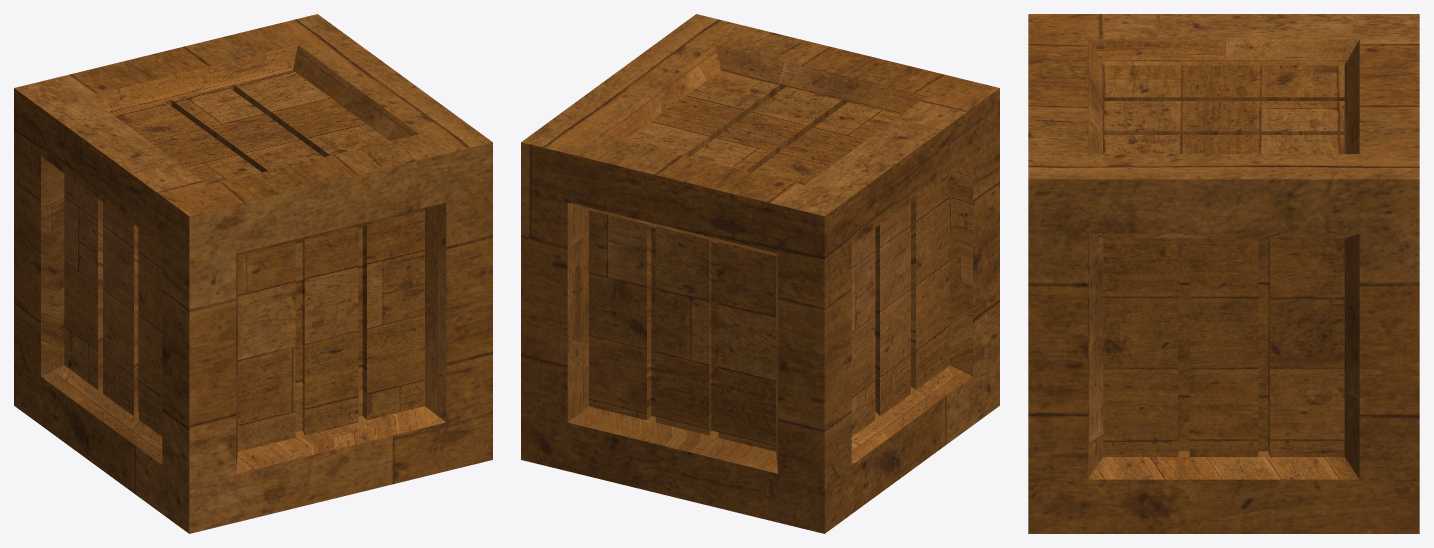
Rendered from Crate2.glb.
3 renders of one model, left to right at view 1: azimuth 30°, elevation 25°; view 2: azimuth 150°, elevation 25°; view 3: azimuth 270°, elevation 25°, orthographic. The views are drawn at different scales.
Visible parts, largest first — view 1: Crate; view 2: Crate; view 3: Crate.
Part boxes in pixels (x1=…): Crate: x1=14, y1=14, x2=492, y2=533; Crate: x1=521, y1=14, x2=999, y2=533; Crate: x1=1028, y1=14, x2=1419, y2=533.
Size of the model in its own units: 2 by 2 by 2.
Materials: 2 (2 with a texture image).
